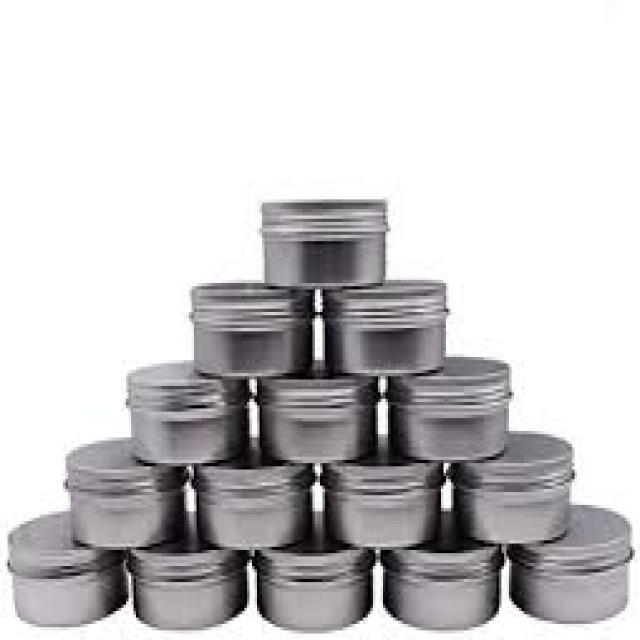recyclable: (248, 510, 378, 636), (378, 507, 505, 632), (507, 504, 635, 626), (448, 427, 577, 545), (319, 431, 446, 550), (185, 435, 318, 548), (127, 511, 250, 633), (5, 506, 126, 628), (65, 435, 189, 552), (386, 354, 514, 467), (321, 278, 452, 379), (254, 359, 380, 464), (125, 360, 252, 464), (188, 280, 316, 378), (260, 201, 390, 289)
